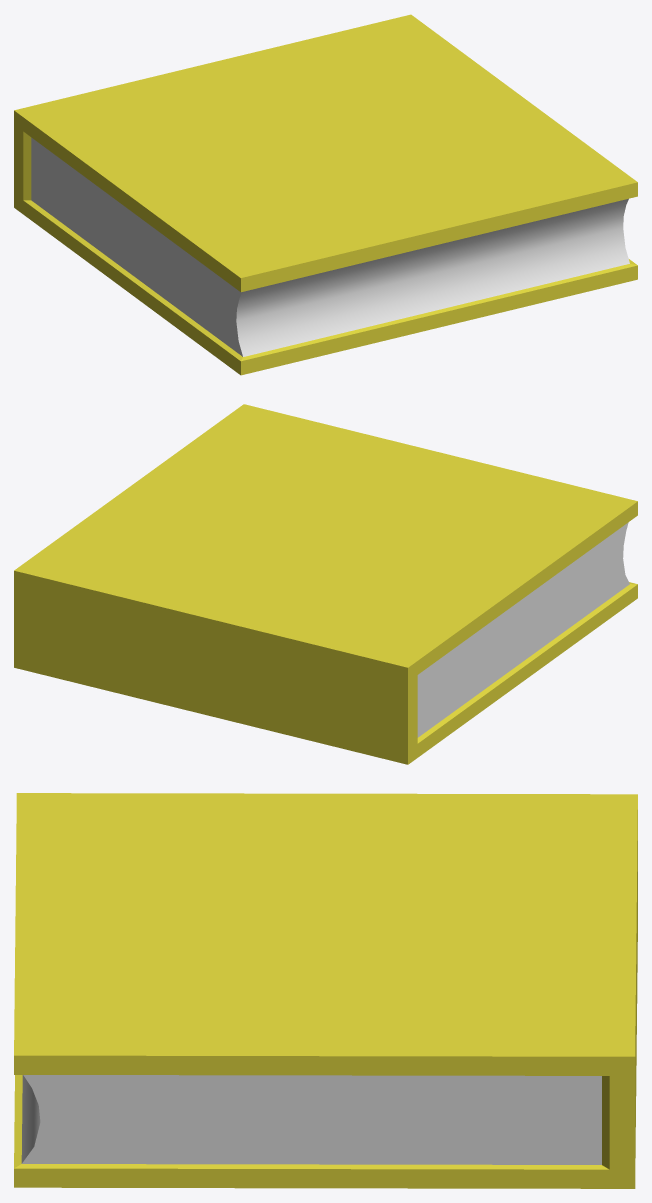
The model's file is livre-base.fbx.
3 views of the same model, one above another, from view 1: azimuth 30°, elevation 25°; view 2: azimuth 150°, elevation 25°; view 3: azimuth 270°, elevation 25° (orthographic). The views are drawn at different scales.
Visible parts, largest first — view 1: Livre6; view 2: Livre6; view 3: Livre6.
Part boxes in pixels (<box>): Livre6: <box>14,14,637,375</box>; Livre6: <box>14,404,637,764</box>; Livre6: <box>14,793,637,1188</box>.
Bounding box in the file's own units: 4.85 × 1.13 × 4.85.
